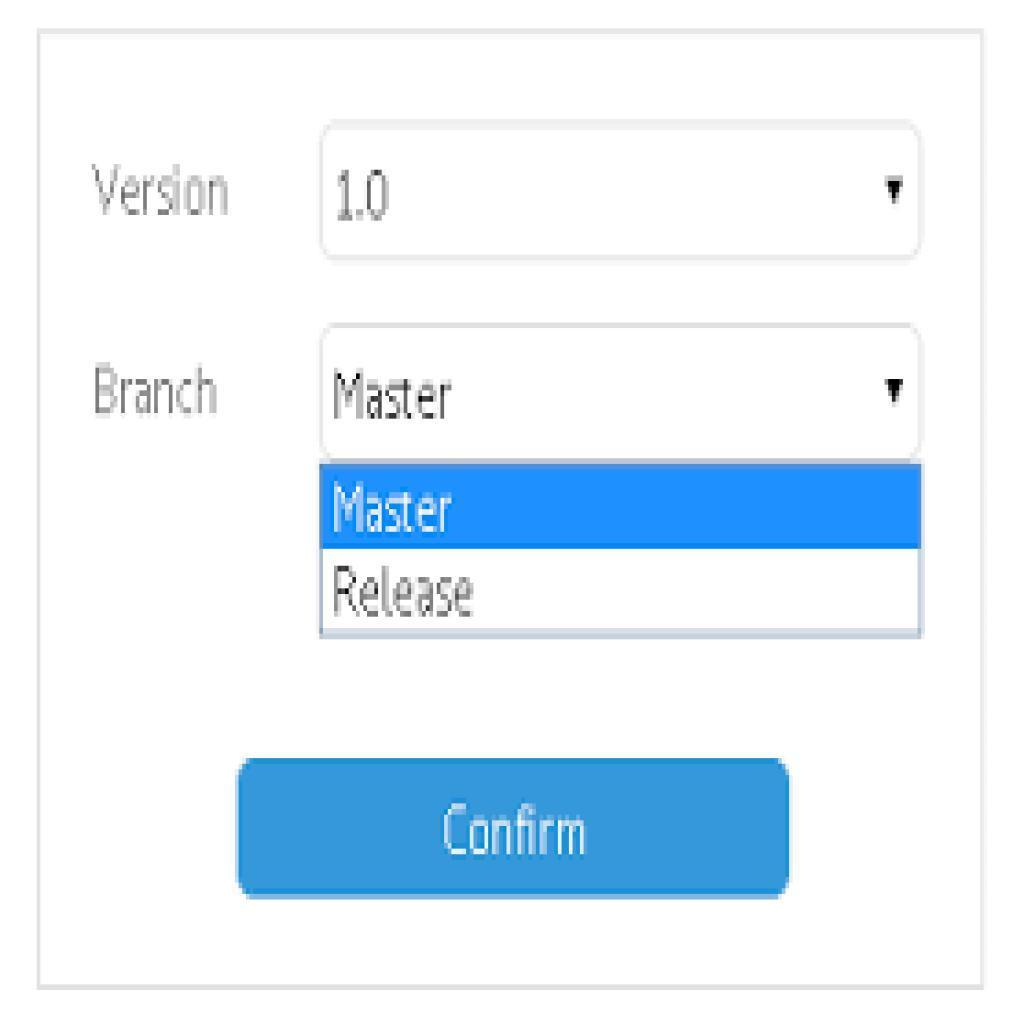button: (238, 757, 791, 903), (321, 464, 923, 550), (321, 552, 920, 635)
dropdown: (322, 123, 923, 260), (321, 327, 921, 464)
label: (85, 152, 239, 221), (90, 358, 219, 417)
